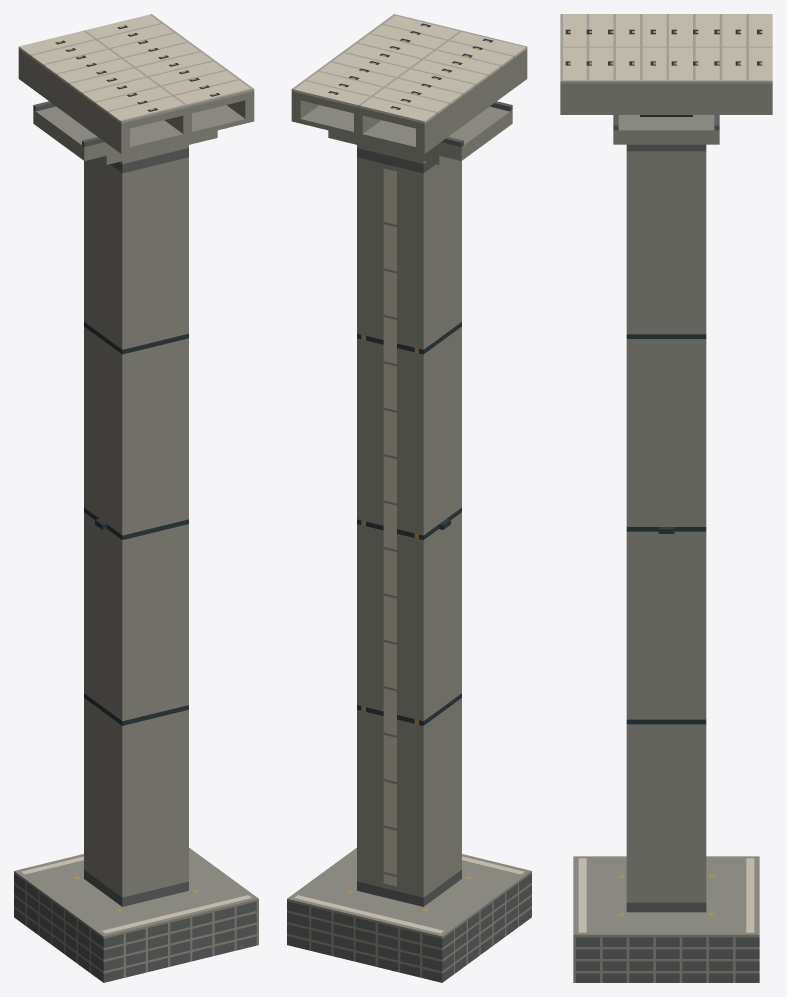
The picture shows the model from 3 angles, left to right: view 1: azimuth 30°, elevation 25°; view 2: azimuth 150°, elevation 25°; view 3: azimuth 270°, elevation 25°; orthographic projection. The views are drawn at different scales.
Visible parts, largest first — view 1: 既有高架路轨墩柱显示件, 既有轨道高架路床, 既有高架路轨石基础显示件, 既有高架路轨墩帽显示件; view 2: 既有高架路轨墩柱显示件, 既有轨道高架路床, 既有高架路轨石基础显示件, 既有高架路轨墩帽显示件; view 3: 既有高架路轨墩柱显示件, 既有轨道高架路床, 既有高架路轨石基础显示件, 既有高架路轨墩帽显示件.
Part boxes in pixels (box(x1,y1,x2,y2)): 既有高架路轨墩柱显示件: box(84, 148, 188, 906); 既有轨道高架路床: box(18, 14, 254, 153); 既有高架路轨石基础显示件: box(14, 848, 258, 982); 既有高架路轨墩帽显示件: box(33, 101, 217, 164); 既有高架路轨墩柱显示件: box(357, 148, 461, 906); 既有轨道高架路床: box(291, 14, 527, 153); 既有高架路轨石基础显示件: box(287, 848, 531, 982); 既有高架路轨墩帽显示件: box(328, 101, 512, 164); 既有高架路轨墩柱显示件: box(626, 144, 706, 912); 既有轨道高架路床: box(560, 14, 772, 114); 既有高架路轨石基础显示件: box(573, 856, 759, 982); 既有高架路轨墩帽显示件: box(613, 115, 719, 144).
Bounding box in the file's own units: 7 × 37.2 × 8.
Materials: 7 (7 with a texture image).
